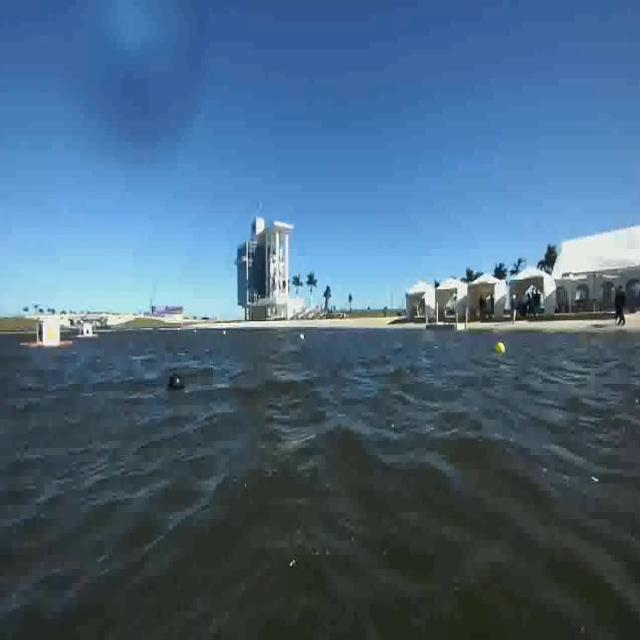black-buoy: (167, 368, 185, 398)
yellow-buoy: (496, 340, 506, 358)
